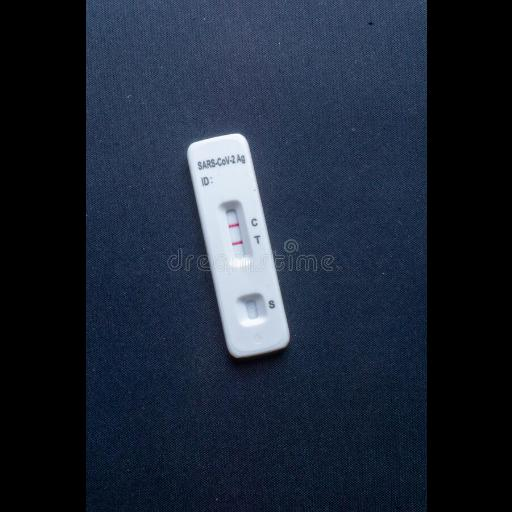Pos: (181, 132, 293, 358)
